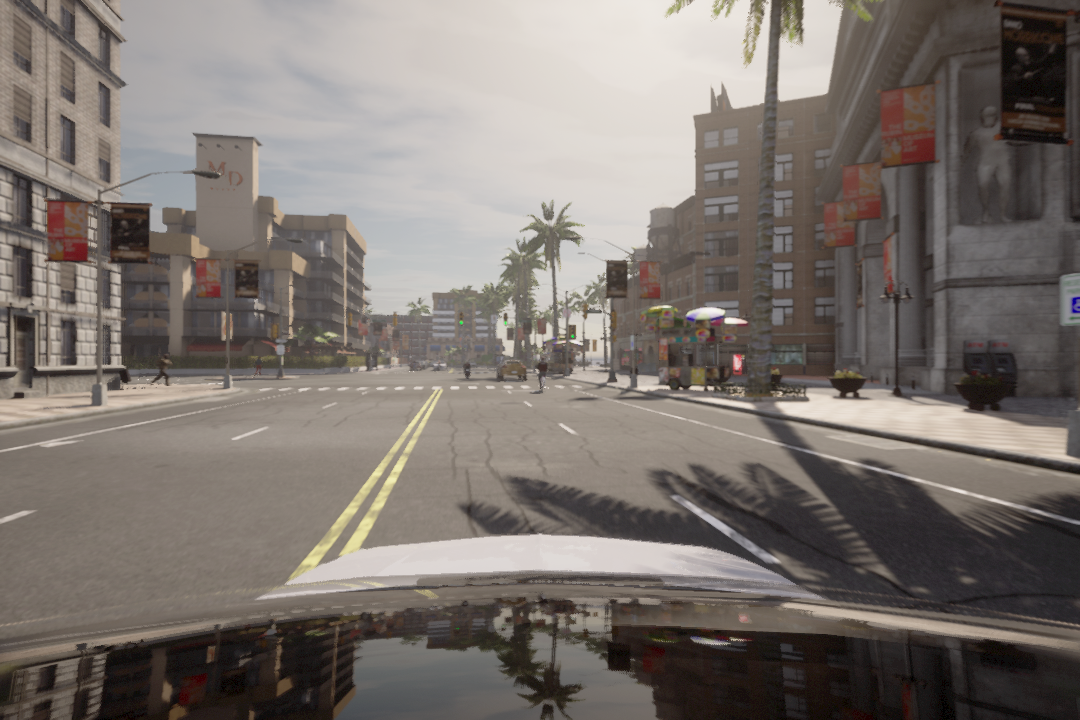TrafficLight: (569, 325, 577, 340), (503, 313, 510, 327), (458, 311, 464, 325)
walkside: (240, 385, 594, 392)
